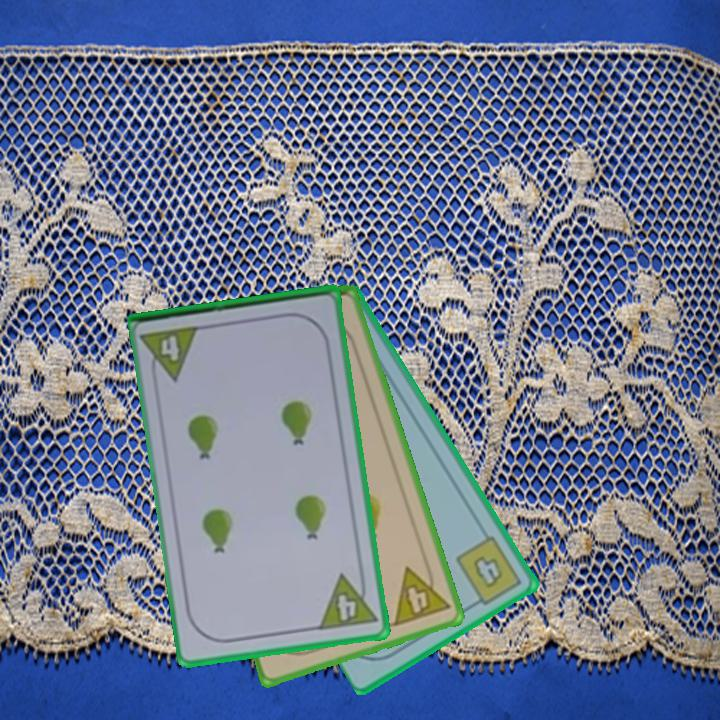4b: (452, 531, 525, 611)
4p: (390, 557, 453, 630), (315, 568, 380, 634), (139, 322, 204, 386)
